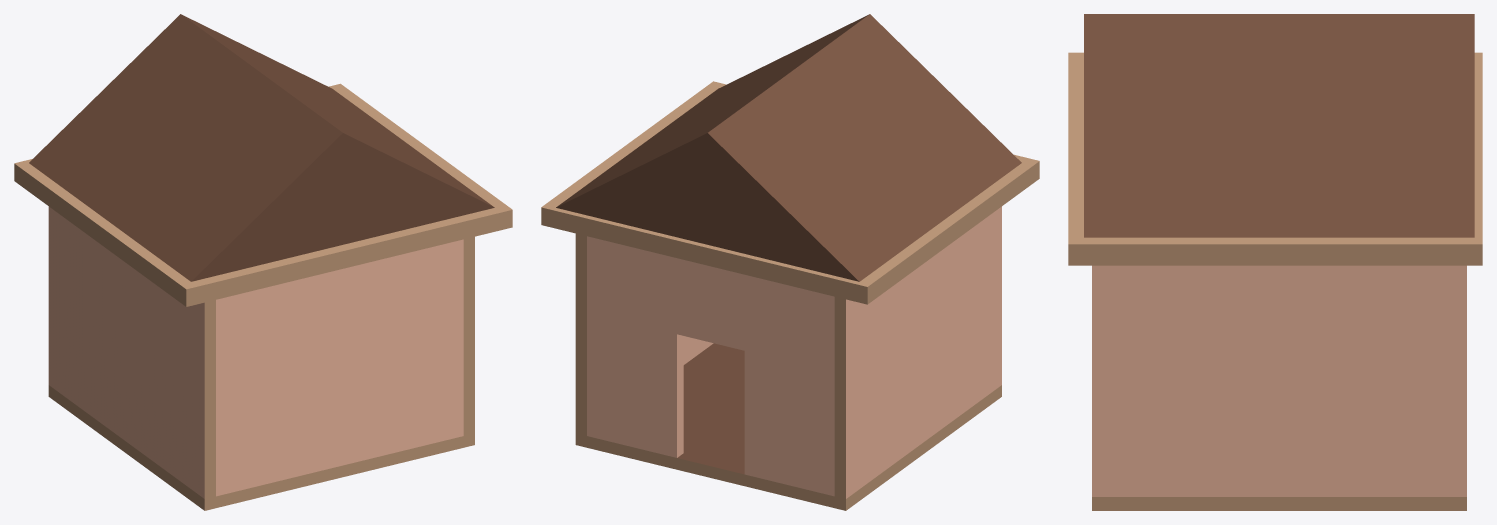
Rendered from House.gltf.
3 renders of one model, left to right at view 1: azimuth 30°, elevation 25°; view 2: azimuth 150°, elevation 25°; view 3: azimuth 270°, elevation 25°, orthographic. The views are drawn at different scales.
Visible parts, largest first — view 1: cube (×10); view 2: cube (×12); view 3: cube (×5).
Boxes of the visible parts, x1,y1,x2,y2 form: cube (×10): (14, 14, 512, 510); cube (×12): (541, 14, 1039, 510); cube (×5): (1068, 14, 1482, 510).
Bounding box in the file's own units: 3.62 × 3.69 × 3.31.
Materials: 1 (1 with a texture image).
